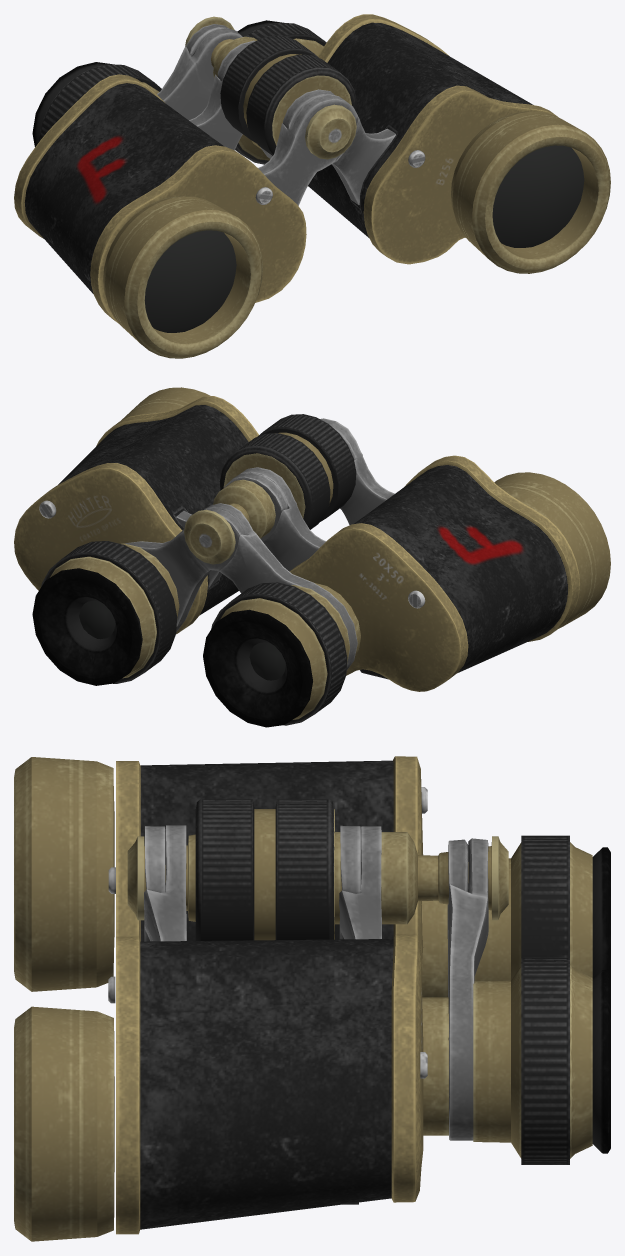
File: binoculars_painted.glb
3 renders of one model, top to bottom at view 1: azimuth 30°, elevation 25°; view 2: azimuth 150°, elevation 25°; view 3: azimuth 270°, elevation 25°, orthographic. The views are drawn at different scales.
Visible parts, largest first — view 1: Hauptkoerper_LP_Material #25_0, LinseVorne_LP_Material #25_0, GlasVorne_LP_Material #25_0, Mittelteil_LP_Material #25_0, UebergangKVL_LP_Material #25_0, Einstellrad_B_LP_Material #25_0, UebergangGL_LP_Material #25_0, Einstellrad_A_LP_Material #25_0, Einstellrad_C_LP_Material #25_0, UebergangKVR_LP_Material #25_0, UebergangKHL_LP_Material #25_0, Gummi_LP_Material #25_0 (+2 smaller); view 2: Hauptkoerper_LP_Material #25_0, Gummi_LP_Material #25_0, Einstellrad_A_LP_Material #25_0, LinseVorne_LP_Material #25_0, LinseHinten_LP_Material #25_0, Mittelteil_LP_Material #25_0, UebergangGL_LP_Material #25_0, Einstellrad_C_LP_Material #25_0, UebergangGR_LP_Material #25_0, Einstellrad_B_LP_Material #25_0, UebergangKHL_LP_Material #25_0, GlasKlein_LP_Material #25_0 (+2 smaller); view 3: Hauptkoerper_LP_Material #25_0, LinseVorne_LP_Material #25_0, LinseHinten_LP_Material #25_0, Einstellrad_A_LP_Material #25_0, Mittelteil_LP_Material #25_0, Einstellrad_B_LP_Material #25_0, UebergangGR_LP_Material #25_0, Einstellrad_C_LP_Material #25_0, Zwischenteil_LP_Material #25_0, Gummi_LP_Material #25_0, UebergangKVR_LP_Material #25_0, UebergangKHR_LP_Material #25_0 (+3 smaller).
Part boxes in pixels (x1,y1,x2,y2): Hauptkoerper_LP_Material #25_0: (14, 14, 558, 323); LinseVorne_LP_Material #25_0: (103, 111, 610, 358); GlasVorne_LP_Material #25_0: (144, 145, 584, 332); Mittelteil_LP_Material #25_0: (185, 16, 356, 159); UebergangKVL_LP_Material #25_0: (258, 94, 357, 205); Einstellrad_B_LP_Material #25_0: (246, 54, 356, 155); UebergangGL_LP_Material #25_0: (157, 28, 242, 120); Einstellrad_A_LP_Material #25_0: (38, 22, 326, 164); Einstellrad_C_LP_Material #25_0: (220, 35, 318, 143); UebergangKVR_LP_Material #25_0: (283, 89, 395, 204); UebergangKHL_LP_Material #25_0: (189, 74, 242, 150); Gummi_LP_Material #25_0: (32, 20, 283, 146); Hauptkoerper_LP_Material #25_0: (14, 396, 579, 691); Gummi_LP_Material #25_0: (32, 568, 312, 727); Einstellrad_A_LP_Material #25_0: (41, 541, 347, 725); LinseVorne_LP_Material #25_0: (121, 387, 610, 628); LinseHinten_LP_Material #25_0: (50, 543, 349, 719); Mittelteil_LP_Material #25_0: (184, 432, 333, 564); UebergangGL_LP_Material #25_0: (204, 503, 357, 670); Einstellrad_C_LP_Material #25_0: (219, 433, 330, 529); UebergangGR_LP_Material #25_0: (125, 508, 246, 631); Einstellrad_B_LP_Material #25_0: (258, 414, 356, 521); UebergangKHL_LP_Material #25_0: (240, 467, 325, 571); GlasKlein_LP_Material #25_0: (79, 600, 285, 680); Hauptkoerper_LP_Material #25_0: (116, 756, 423, 1234); LinseVorne_LP_Material #25_0: (14, 757, 114, 1241); LinseHinten_LP_Material #25_0: (473, 842, 592, 1158); Einstellrad_A_LP_Material #25_0: (521, 835, 569, 1164); Mittelteil_LP_Material #25_0: (127, 809, 508, 940); Einstellrad_B_LP_Material #25_0: (195, 799, 254, 940); UebergangGR_LP_Material #25_0: (448, 838, 488, 1140); Einstellrad_C_LP_Material #25_0: (275, 799, 334, 939); Zwischenteil_LP_Material #25_0: (421, 900, 448, 1135); Gummi_LP_Material #25_0: (592, 847, 610, 1153); UebergangKVR_LP_Material #25_0: (143, 825, 186, 941); UebergangKHR_LP_Material #25_0: (339, 826, 381, 939).
Size of the model in its own units: 0.5046 by 0.2014 by 0.3642.
Materials: 1 (1 with a texture image).
